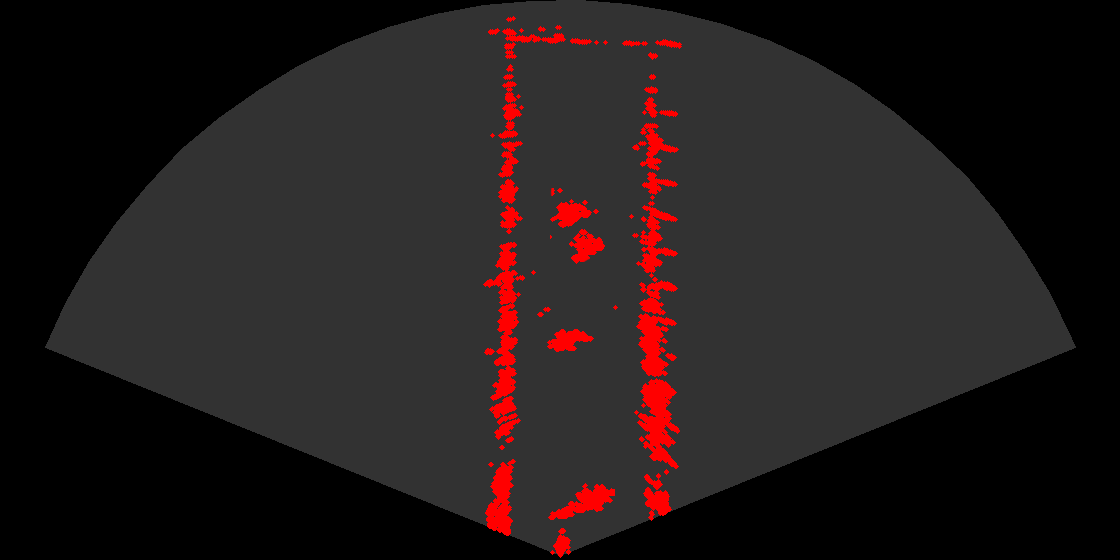AUV: (541, 327, 597, 359)
cage: (550, 188, 613, 272)
frogman: (547, 477, 615, 524)
